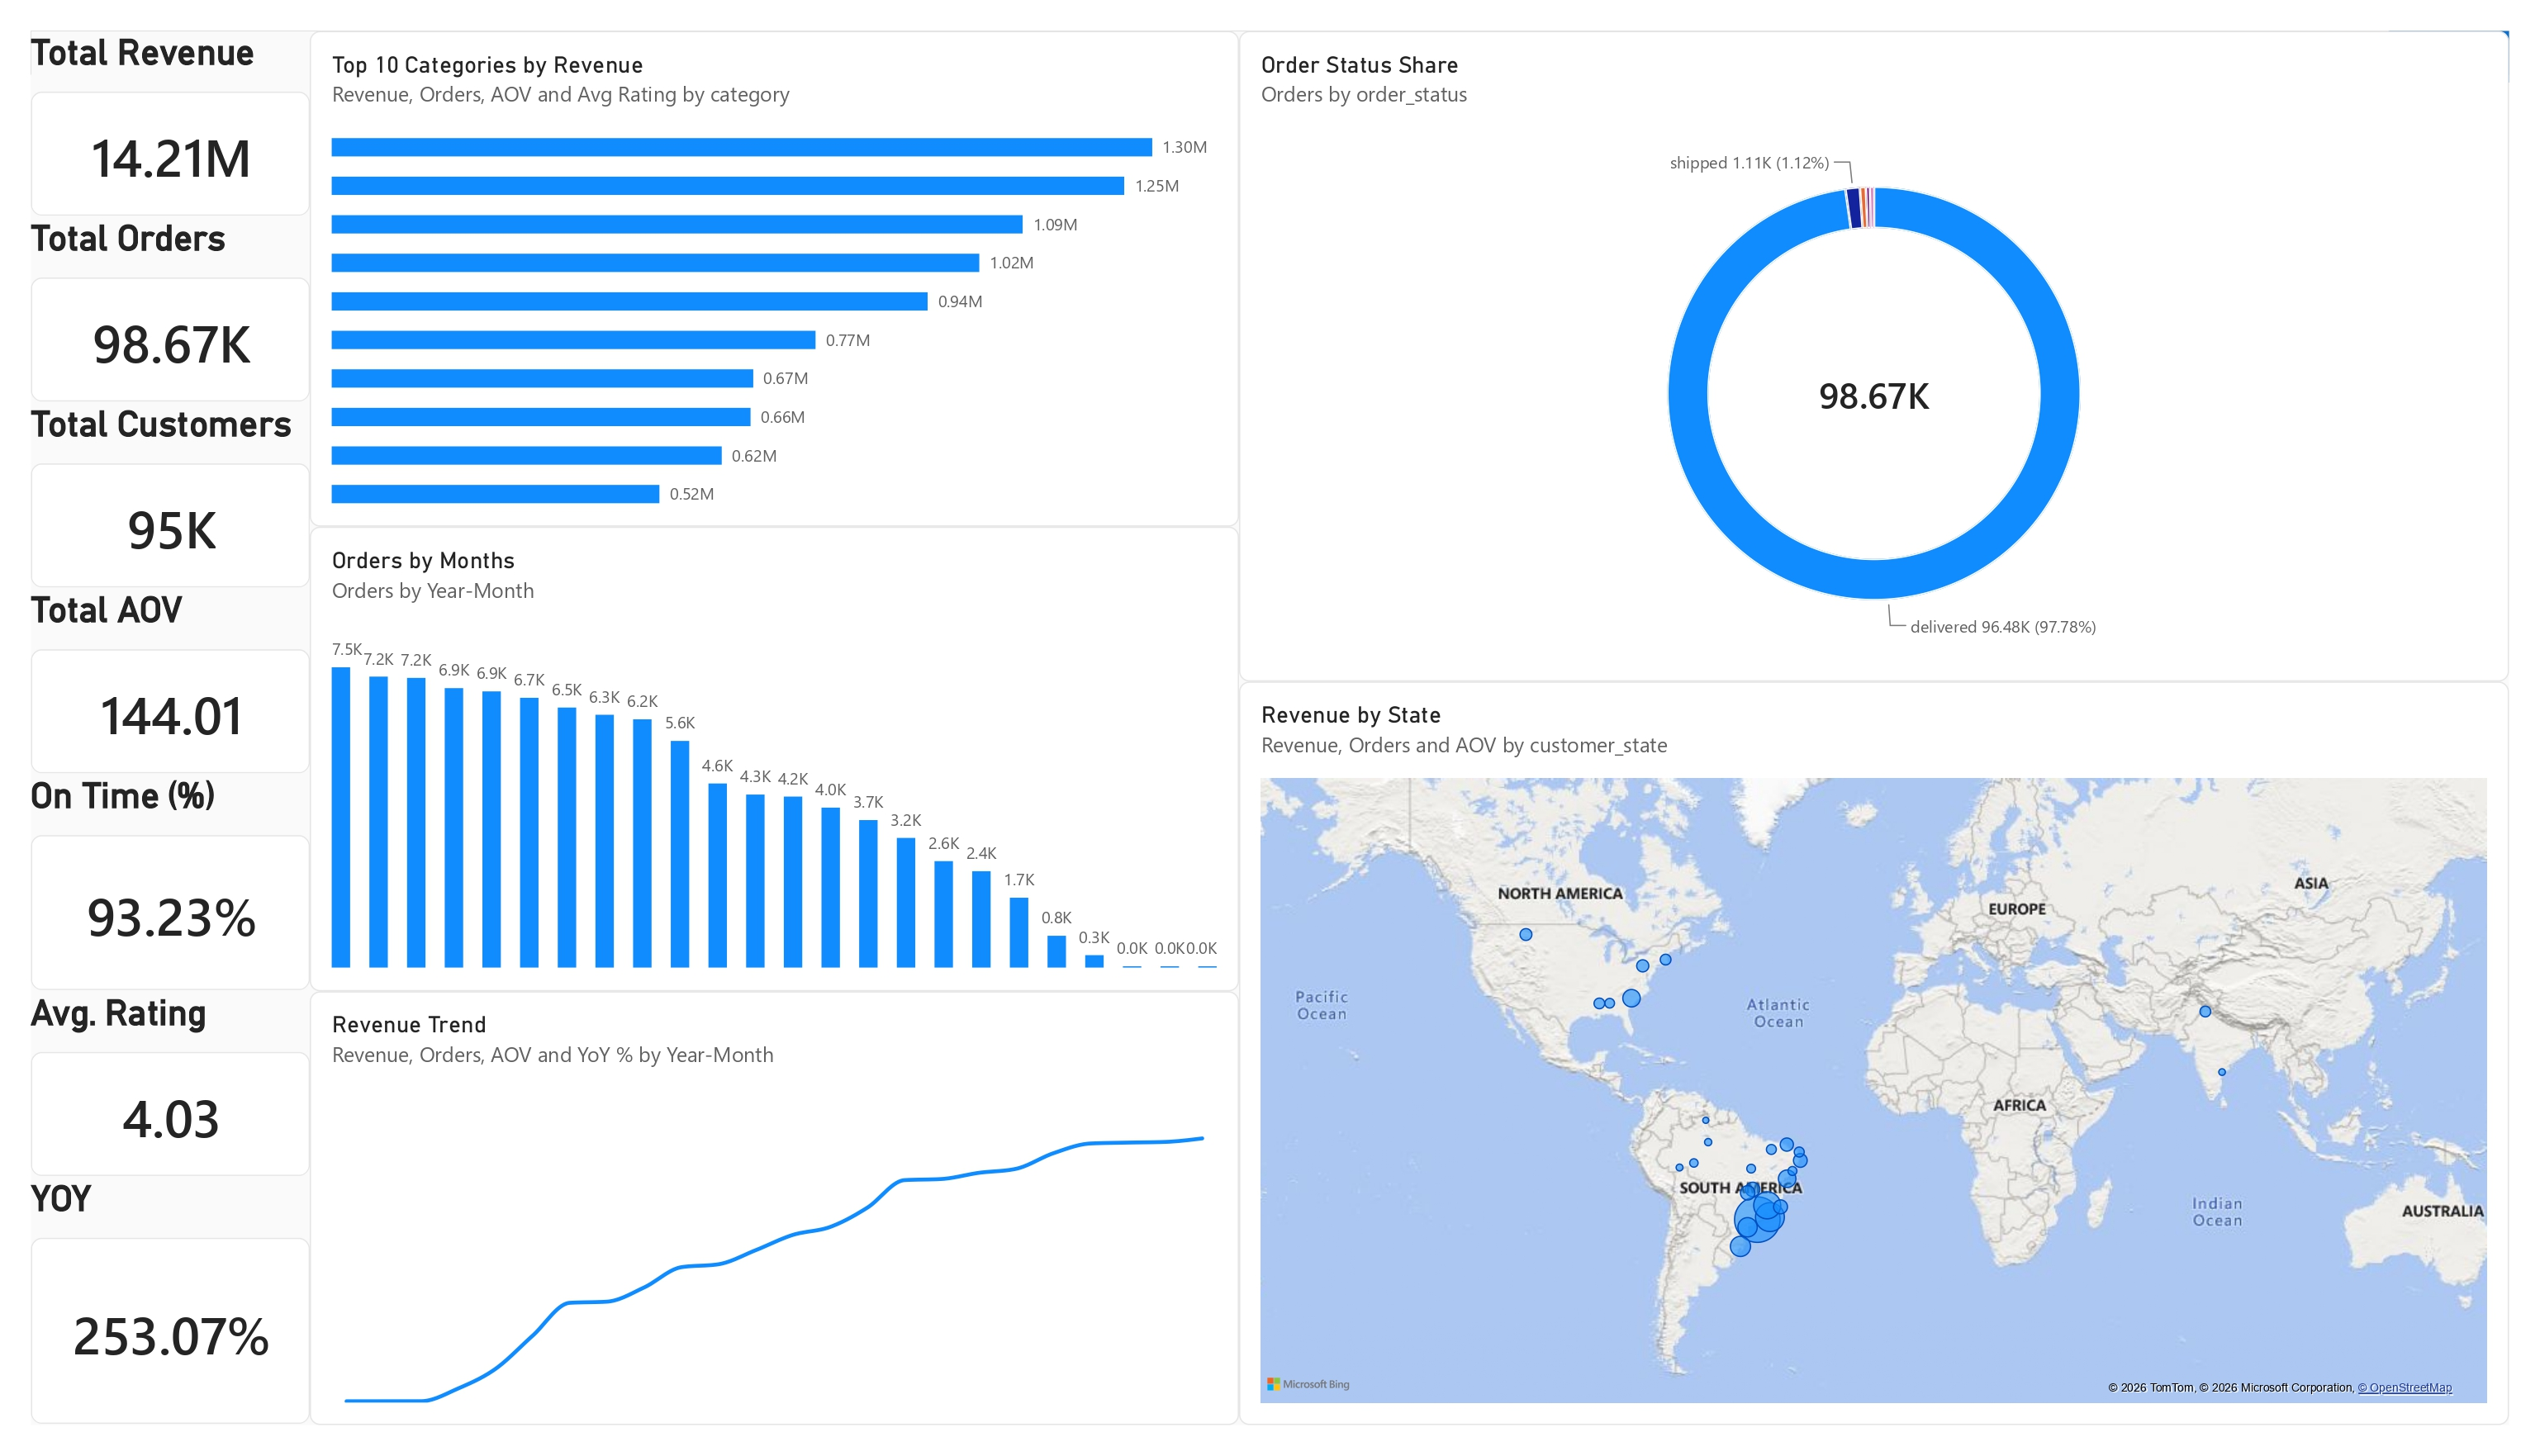

Layout of this report page (visuals, bound fields, positions):
{"tool":"powerbi","page":{"name":"Overview(Executive Dashboard)","canvas":[1920,1080],"ordinal":0},"visuals":[{"type":"cardVisual","title":"Total Revenue","fields":{"Data":["public bi_fact_sales.Revenue"]},"box":[0,0,216,144],"z":0},{"type":"cardVisual","title":"Total Orders","fields":{"Data":["public bi_fact_sales.Orders"]},"box":[0,144,216,144],"z":1000},{"type":"cardVisual","title":"Total Customers","fields":{"Data":["public bi_fact_sales.Customers"]},"box":[0,288,216,144],"z":2000},{"type":"cardVisual","title":"Total AOV","fields":{"Data":["public bi_fact_sales.AOV"]},"box":[0,432,216,144],"z":3000},{"type":"cardVisual","title":"On Time (%)","fields":{"Data":["public bi_fact_sales.On-time %"]},"box":[0,576,216,168],"z":4000},{"type":"cardVisual","title":"Avg. Rating","fields":{"Data":["public bi_fact_sales.Avg Rating"]},"box":[0,744,216,144],"z":5000},{"type":"cardVisual","title":"YOY","fields":{"Data":["public bi_fact_sales.YoY %"]},"box":[0,888,216,192],"z":6000},{"type":"lineChart","title":"Revenue Trend","fields":{"Category":["DimDate.Year-Month"],"Y":["public bi_fact_sales.Revenue"]},"box":[216,744,720,336],"z":7000},{"type":"actionButton","box":[1824,0,100,40],"z":8000},{"type":"clusteredColumnChart","title":"Orders by Months","fields":{"Category":["DimDate.Year-Month"],"Y":["public bi_fact_sales.Orders"]},"box":[216,384,720,360],"z":9000},{"type":"barChart","title":"Top 10 Categories by Revenue","fields":{"Category":["public bi_fact_sales.category"],"Y":["public bi_fact_sales.Revenue"]},"box":[216,0,720,384],"z":10000},{"type":"map","title":"Revenue by State","fields":{"Category":["public bi_fact_sales.customer_state"],"Size":["public bi_fact_sales.Revenue"]},"box":[936,504,984,576],"z":11000},{"type":"donutChart","title":"Order Status Share","fields":{"Category":["public bi_fact_sales.order_status","DimDate.Year-Month"],"Y":["public bi_fact_sales.Orders"]},"box":[936,0,984,504],"z":12000}]}

Visuals, with their boxes on the page's 1920x1080 design canvas (x1, y1, x2, y2). These are canvas units, not pixel positions in the 2540x1456 screenshot, which may show the page scaled, cropped or inside an application window:
"Total Revenue" cardVisual: select_region(0, 0, 216, 144)
"Total Orders" cardVisual: select_region(0, 144, 216, 288)
"Total Customers" cardVisual: select_region(0, 288, 216, 432)
"Total AOV" cardVisual: select_region(0, 432, 216, 576)
"On Time (%)" cardVisual: select_region(0, 576, 216, 744)
"Avg. Rating" cardVisual: select_region(0, 744, 216, 888)
"YOY" cardVisual: select_region(0, 888, 216, 1080)
"Revenue Trend" lineChart: select_region(216, 744, 936, 1080)
actionButton: select_region(1824, 0, 1924, 40)
"Orders by Months" clusteredColumnChart: select_region(216, 384, 936, 744)
"Top 10 Categories by Revenue" barChart: select_region(216, 0, 936, 384)
"Revenue by State" map: select_region(936, 504, 1920, 1080)
"Order Status Share" donutChart: select_region(936, 0, 1920, 504)
